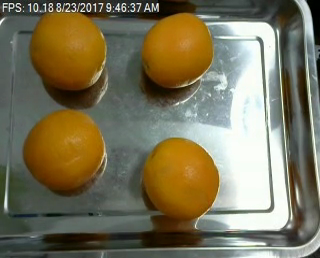Orange: (21, 107, 104, 190), (142, 136, 219, 218), (29, 11, 107, 88), (140, 12, 211, 87)
